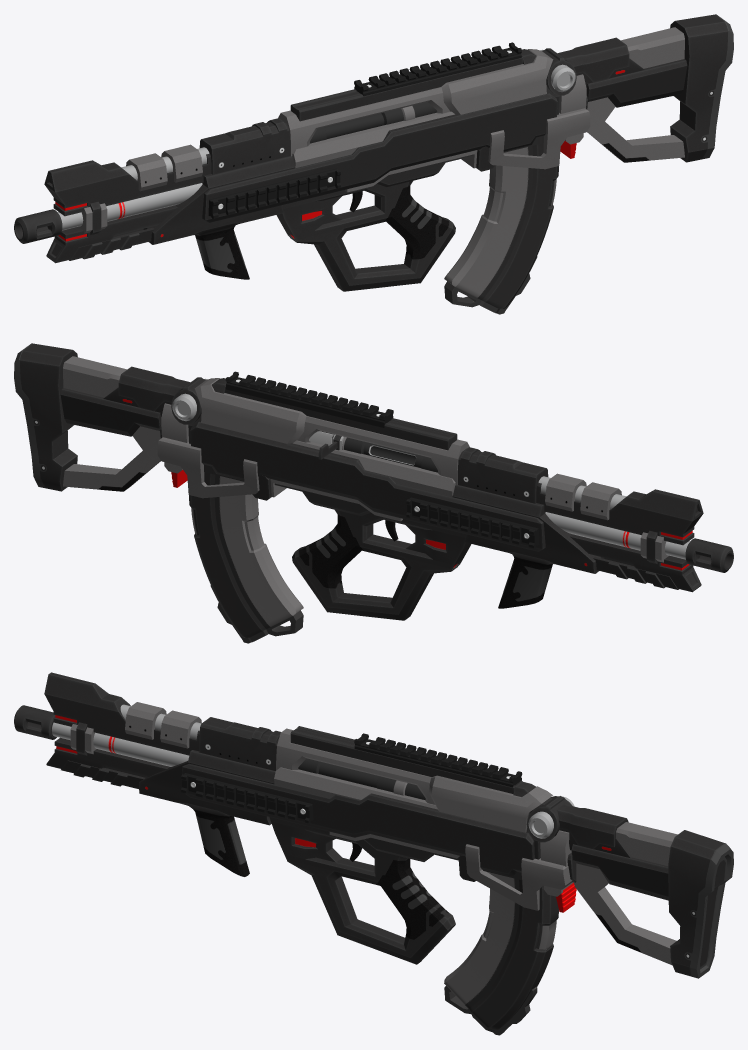
File: BullPup.fbx
3 renders of one model, top to bottom at view 1: azimuth 30°, elevation 25°; view 2: azimuth 150°, elevation 25°; view 3: azimuth 330°, elevation 25°, orthographic.
Visible parts, largest first — view 1: Cube.031, Cube.036, Cube.044, Cube.050, Cube.033, Cube.034, Cube.035, Cube.039, Cube.041, Cube.062, Cube.001; view 2: Cube.031, Cube.036, Cube.044, Cube.050, Cube.033, Cube.034, Cube.035, Cube.039, Cube.041, Cube.062, Cube.001; view 3: Cube.031, Cube.036, Cube.044, Cube.050, Cube.033, Cube.034, Cube.035, Cube.039, Cube.041, Cube.062, Cube.001.
Boxes of the visible parts, left/top/right/bottom form: Cube.031: left=276, top=14, right=733, bottom=291; Cube.036: left=69, top=49, right=553, bottom=260; Cube.044: left=202, top=92, right=557, bottom=222; Cube.050: left=444, top=143, right=558, bottom=314; Cube.033: left=44, top=153, right=211, bottom=263; Cube.034: left=143, top=156, right=295, bottom=279; Cube.035: left=14, top=147, right=209, bottom=243; Cube.039: left=354, top=42, right=521, bottom=96; Cube.041: left=208, top=168, right=340, bottom=218; Cube.062: left=310, top=102, right=437, bottom=143; Cube.001: left=540, top=48, right=576, bottom=95; Cube.031: left=14, top=343, right=471, bottom=620; Cube.036: left=194, top=378, right=678, bottom=589; Cube.044: left=190, top=421, right=545, bottom=551; Cube.050: left=189, top=472, right=303, bottom=643; Cube.033: left=536, top=482, right=703, bottom=592; Cube.034: left=452, top=485, right=604, bottom=608; Cube.035: left=538, top=476, right=733, bottom=572; Cube.039: left=225, top=371, right=393, bottom=427; Cube.041: left=406, top=497, right=539, bottom=548; Cube.062: left=320, top=431, right=437, bottom=472; Cube.001: left=171, top=377, right=207, bottom=424; Cube.031: left=269, top=781, right=733, bottom=978; Cube.036: left=61, top=702, right=552, bottom=832; Cube.044: left=182, top=763, right=534, bottom=880; Cube.050: left=444, top=872, right=558, bottom=1035; Cube.033: left=44, top=672, right=199, bottom=776; Cube.034: left=139, top=750, right=275, bottom=876; Cube.035: left=14, top=704, right=201, bottom=766; Cube.039: left=354, top=733, right=522, bottom=787; Cube.041: left=181, top=773, right=313, bottom=823; Cube.062: left=298, top=758, right=425, bottom=800; Cube.001: left=526, top=796, right=574, bottom=842.
Bounding box in the file's own units: 17.87 × 183 × 64.92.
